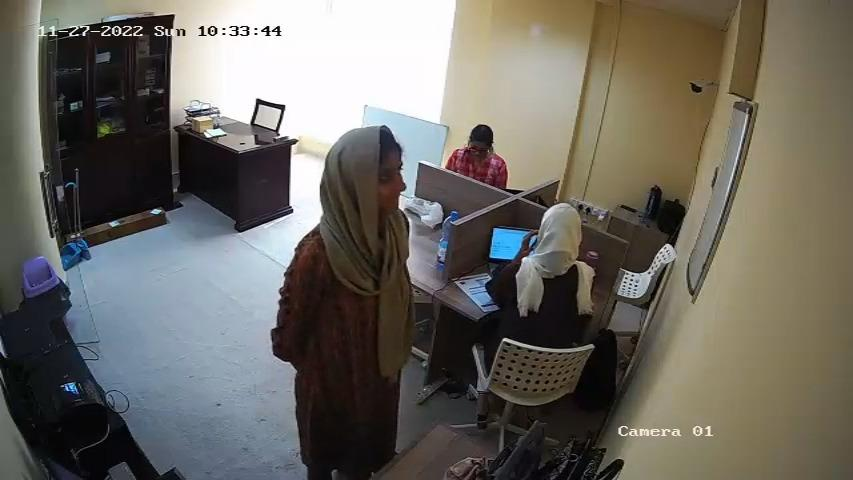no_apron: (305, 247, 403, 452)
